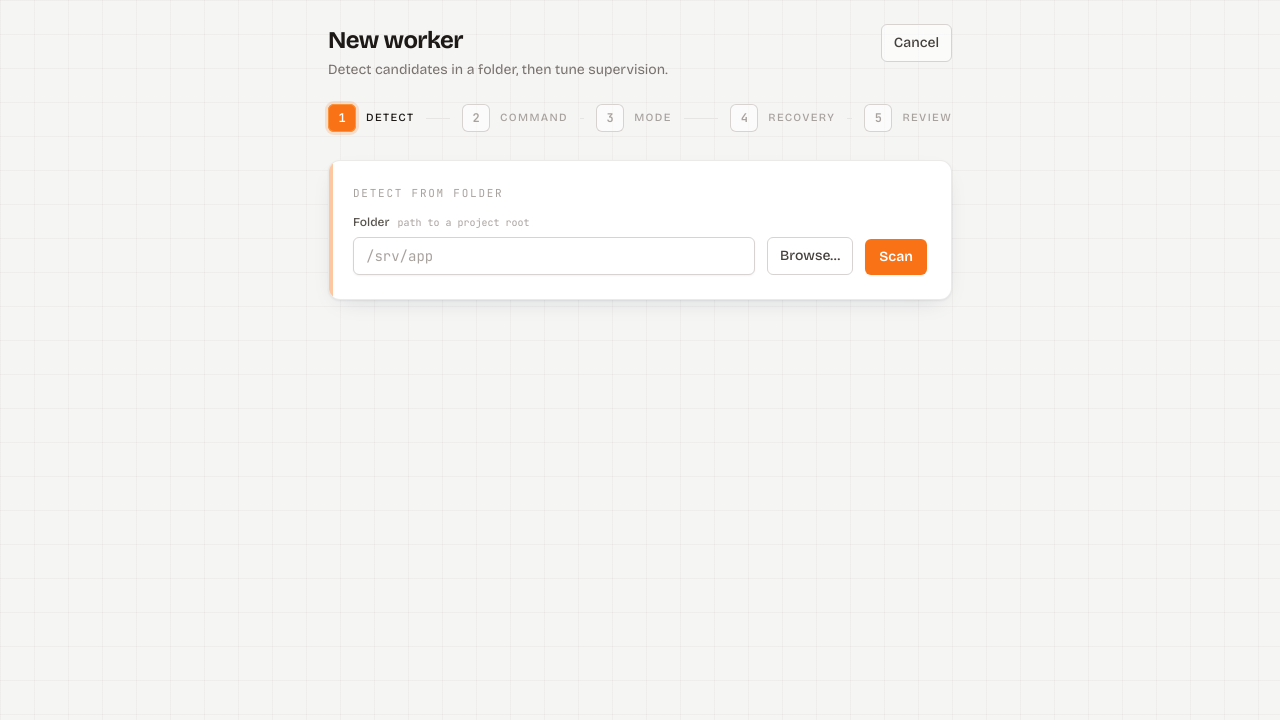
Test: CreateFlow › scans a path and lists suggestions
In the field labelled "Folder": (554, 256) [353,236,755,274], type "/p"
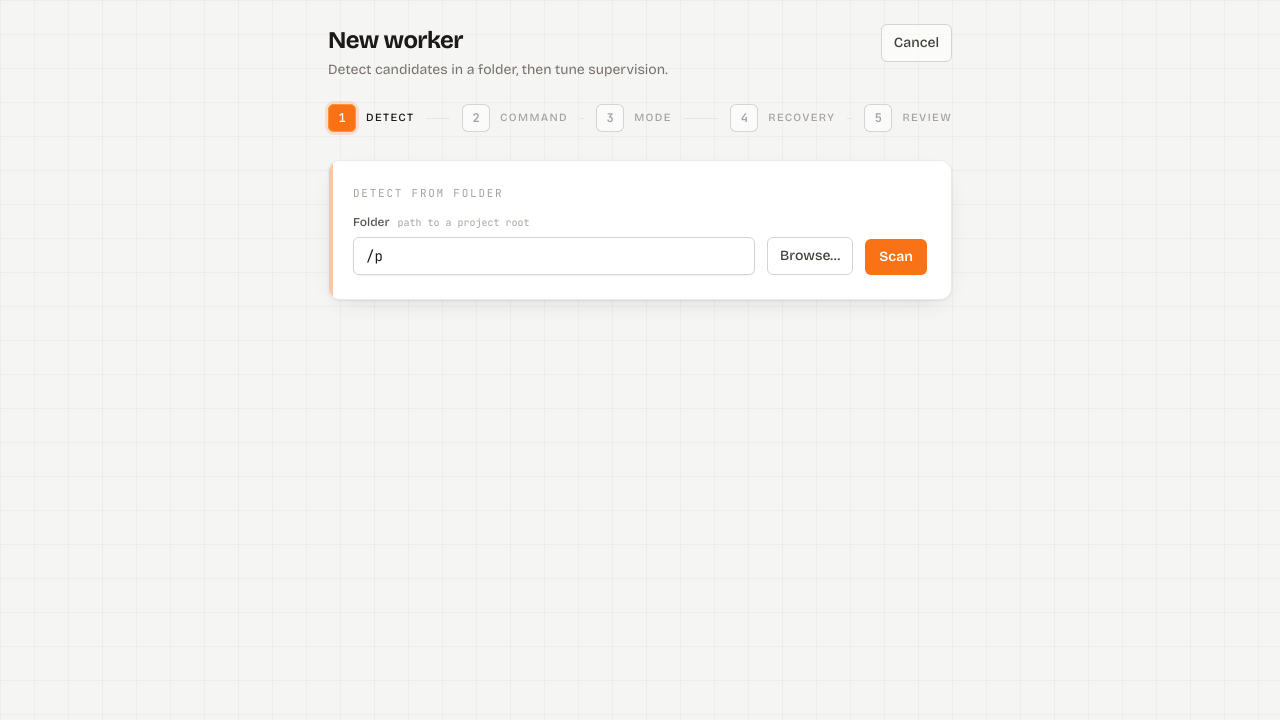
Click the button "Scan": (896, 256) [865,238,927,274]
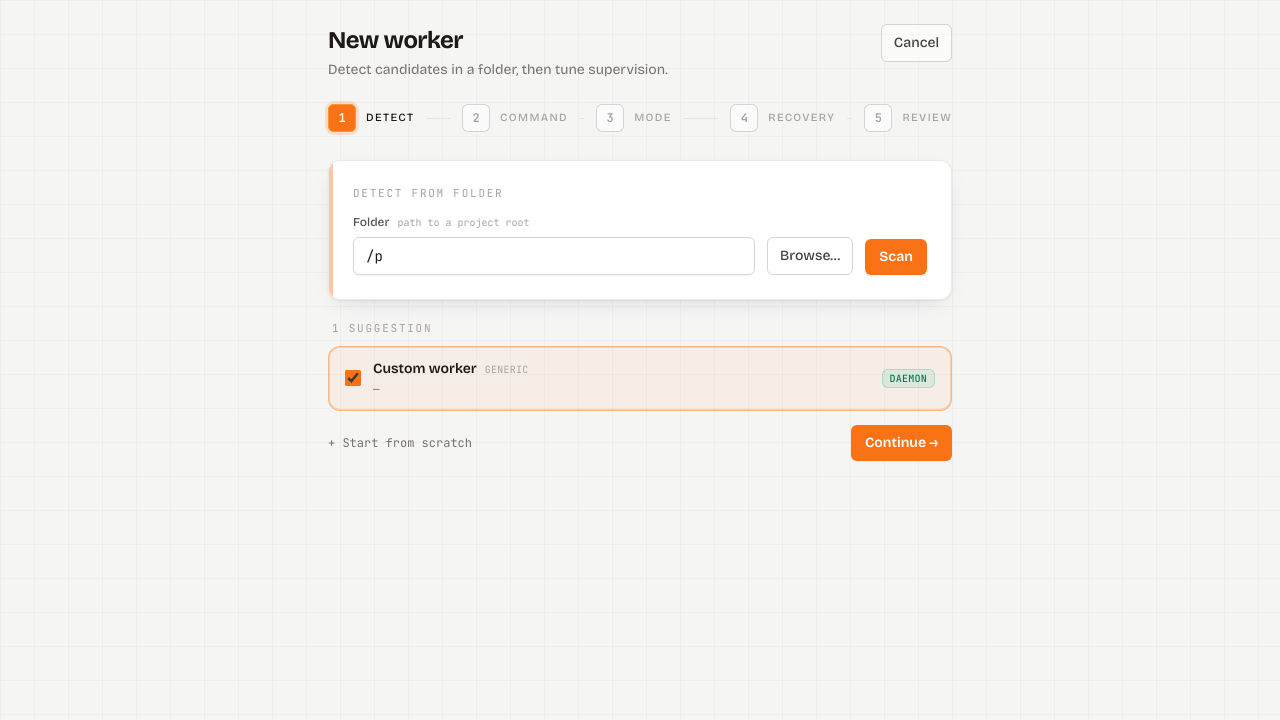
Now the text "Custom worker" is shown, box [373,359,477,379]
